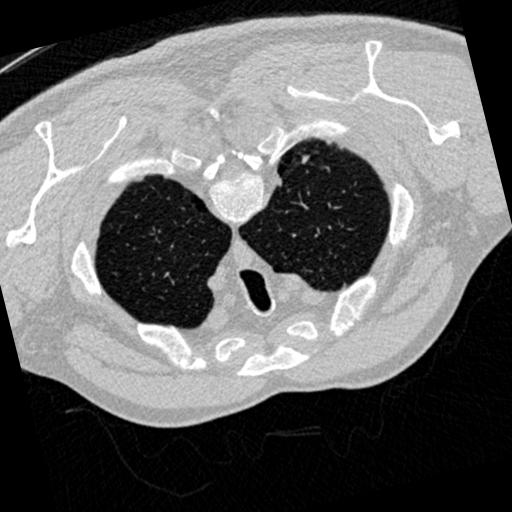nodule: (298, 153, 314, 169)
